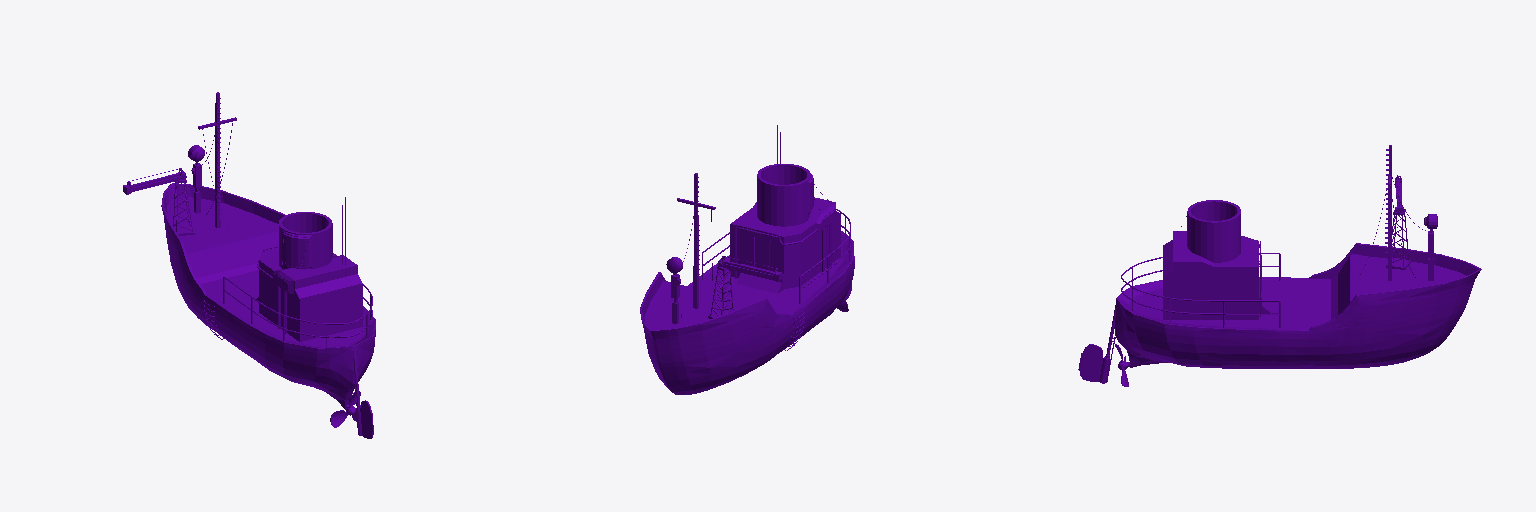
File: Ship_UV_1.obj
3 views of the same model, side by side, from view 1: azimuth 30°, elevation 25°; view 2: azimuth 150°, elevation 25°; view 3: azimuth 270°, elevation 25° (orthographic).
Parts seen in each view (by area): view 1: Ship; view 2: Ship; view 3: Ship.
Part boxes in pixels (x1,y1,x2,y2): Ship: (123, 92, 375, 438); Ship: (640, 125, 854, 394); Ship: (1078, 145, 1481, 386).
Bounding box in the file's own units: 6.15 × 9.69 × 14.95.